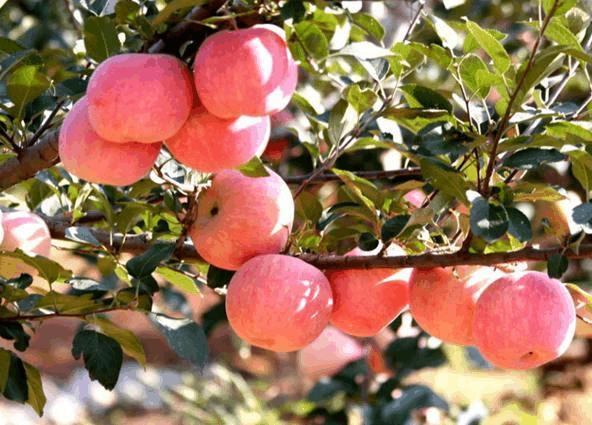apple: (185, 163, 294, 272), (225, 251, 333, 354), (193, 24, 298, 118), (87, 48, 192, 142), (60, 91, 165, 185), (471, 273, 574, 367), (407, 258, 509, 348), (165, 105, 271, 175), (320, 262, 408, 339)
